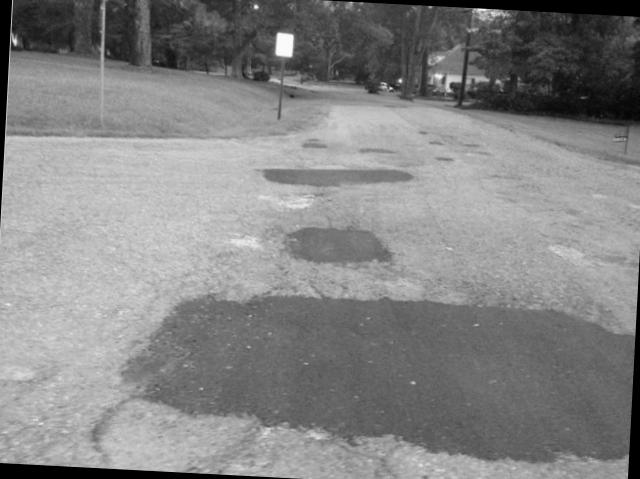Pothole: (136, 283, 636, 466), (232, 146, 422, 200), (296, 208, 392, 263)
